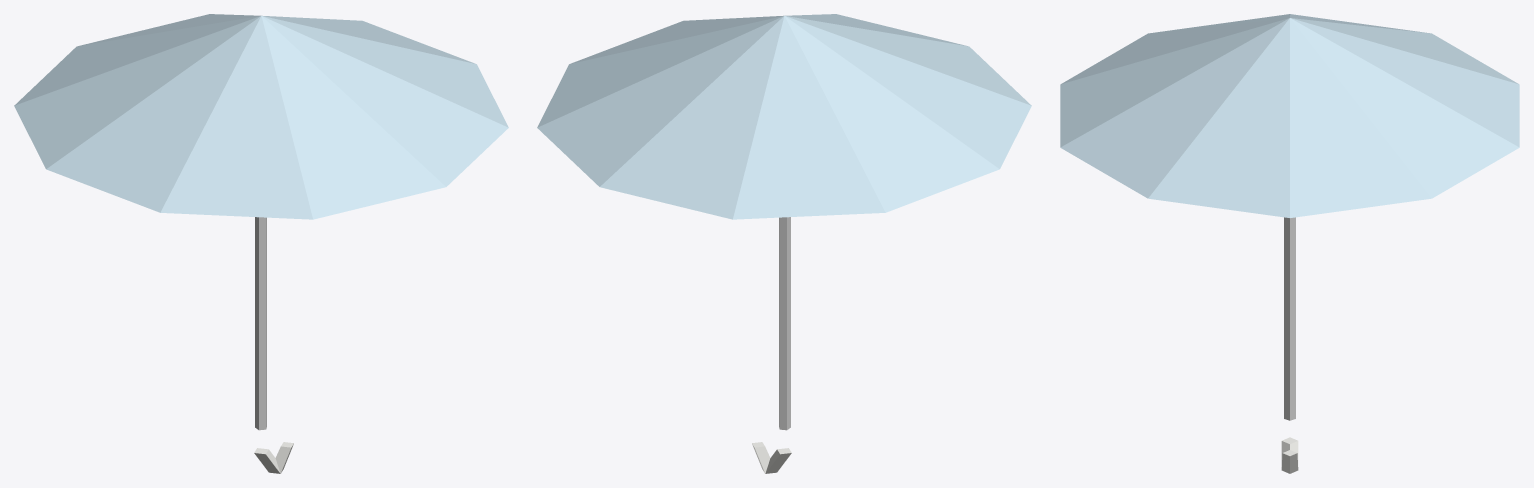
The model's file is umbrella.glb.
The picture shows the model from 3 angles, left to right: view 1: azimuth 30°, elevation 25°; view 2: azimuth 150°, elevation 25°; view 3: azimuth 270°, elevation 25°; orthographic projection. The views are drawn at different scales.
Parts seen in each view (by area): view 1: umbrella; view 2: umbrella; view 3: umbrella.
Part boxes in pixels (box(x1,y1,x2,y2)): umbrella: box(14, 14, 508, 473); umbrella: box(537, 14, 1031, 473); umbrella: box(1060, 14, 1519, 473).
Bounding box in the file's own units: 1.16 × 1.18 × 1.1.
